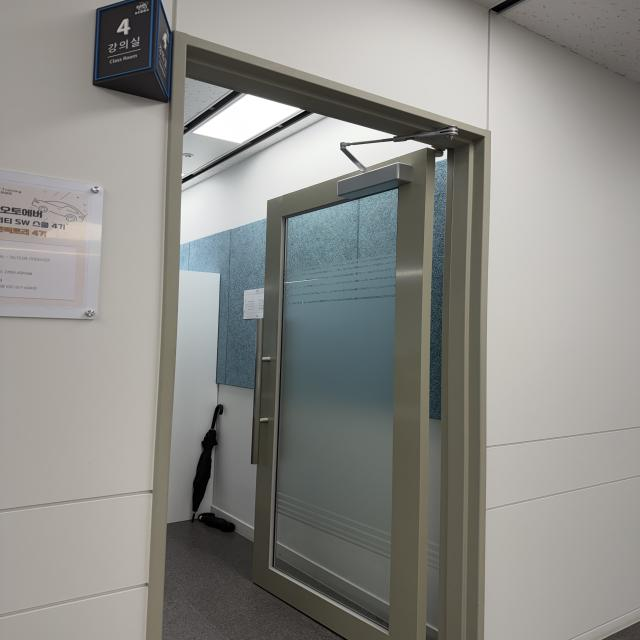room4: (96, 3, 155, 80)
